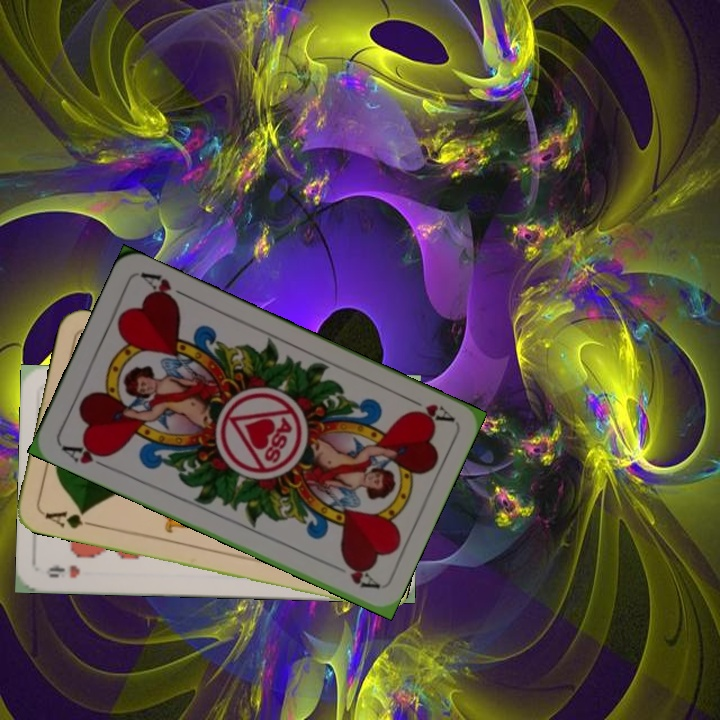GA: (41, 507, 99, 532)
H9: (42, 560, 82, 581)
HA: (57, 438, 114, 473), (399, 392, 456, 426)
